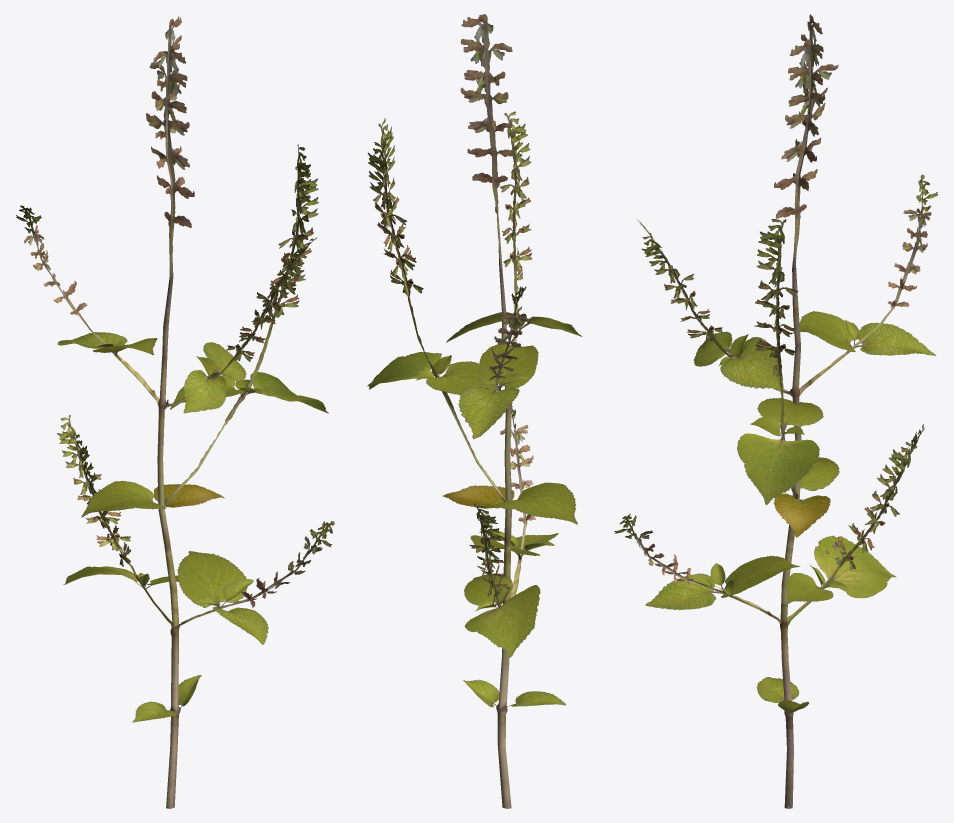
3 views of the same model, side by side, from view 1: azimuth 30°, elevation 25°; view 2: azimuth 150°, elevation 25°; view 3: azimuth 270°, elevation 25° (orthographic). The views are drawn at different scales.
Parts seen in each view (by area): view 1: shrub_03__c_lod0; view 2: shrub_03__c_lod0; view 3: shrub_03__c_lod0.
Part boxes in pixels (x1,y1,x2,y2): shrub_03__c_lod0: [16, 16, 334, 808]; shrub_03__c_lod0: [367, 14, 581, 808]; shrub_03__c_lod0: [614, 14, 938, 808].
Bounding box in the file's own units: 0.0958 × 0.3044 × 0.1132.
Materials: 1 (1 with a texture image).
